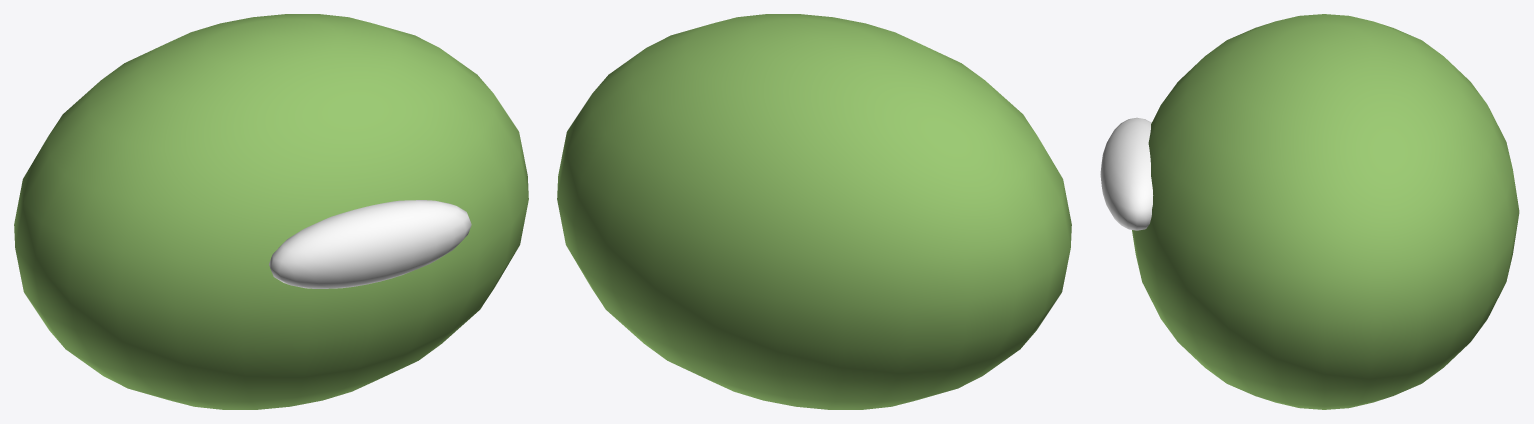
Rendered from mung_bean.glb.
The picture shows the model from 3 angles, left to right: view 1: azimuth 30°, elevation 25°; view 2: azimuth 150°, elevation 25°; view 3: azimuth 270°, elevation 25°; orthographic projection. The views are drawn at different scales.
Parts seen in each view (by area): view 1: bean, bean_hilum; view 2: bean; view 3: bean, bean_hilum.
Part boxes in pixels (box(x1,y1,x2,y2)): bean: box(14, 14, 528, 409); bean_hilum: box(269, 200, 471, 288); bean: box(557, 14, 1071, 409); bean: box(1132, 14, 1519, 409); bean_hilum: box(1100, 117, 1153, 230).
Size of the model in its own units: 0.005 by 0.0035 by 0.00402.
